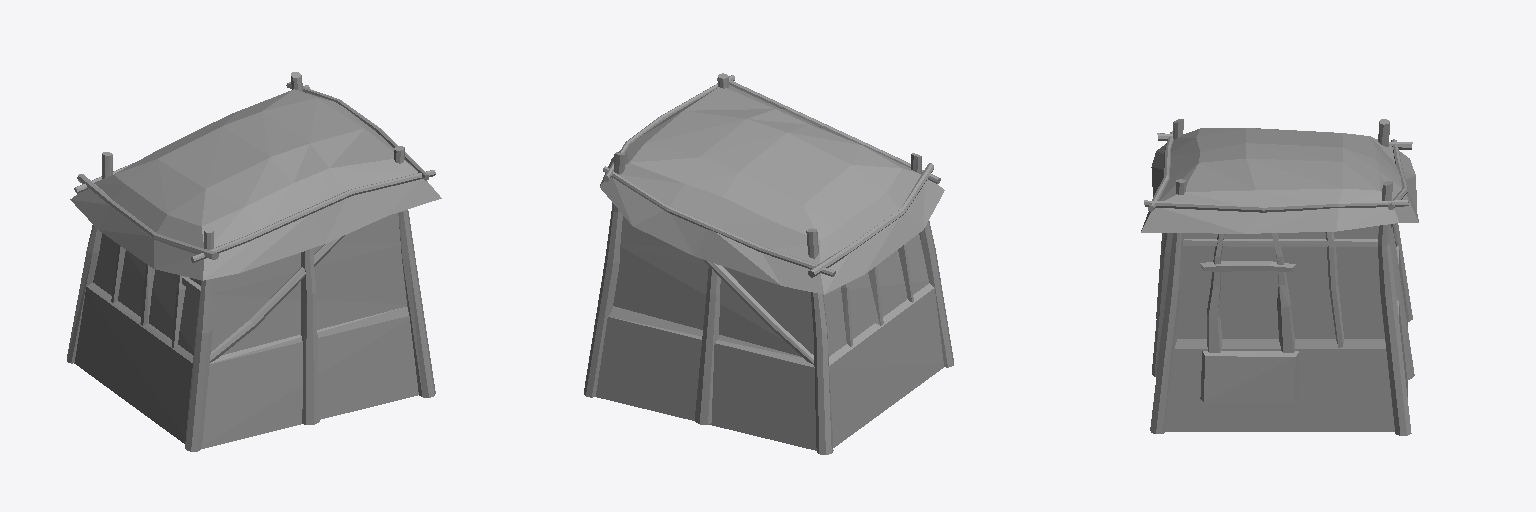
File: ex_de_shack_03.obj
3 views of the same model, side by side, from view 1: azimuth 30°, elevation 25°; view 2: azimuth 150°, elevation 25°; view 3: azimuth 270°, elevation 25° (orthographic).
Visible parts, largest first — view 1: nifid_111-matrix_Tri_Ex_De_Shack_03_5-lib, nifid_96-matrix_Tri_Ex_De_Shack_03_2-lib, nifid_91-matrix_Tri_Ex_De_Shack_03_1-lib, nifid_116-matrix_Tri_Ex_De_Shack_03_6-lib, nifid_86-matrix_Tri_Ex_De_Shack_03_0-lib, nifid_33-matrix_Tri_Object06_0-lib, nifid_27-matrix_Tri_Object05_0-lib, nifid_21-matrix_Tri_Object04_0-lib, nifid_51-matrix_Tri_Object09_0-lib, nifid_45-matrix_Tri_Object08_0-lib, nifid_39-matrix_Tri_Object07_0-lib, nifid_57-matrix_Tri_Object10_0-lib; view 2: nifid_96-matrix_Tri_Ex_De_Shack_03_2-lib, nifid_111-matrix_Tri_Ex_De_Shack_03_5-lib, nifid_91-matrix_Tri_Ex_De_Shack_03_1-lib, nifid_116-matrix_Tri_Ex_De_Shack_03_6-lib, nifid_69-matrix_Tri_Object12_0-lib, nifid_51-matrix_Tri_Object09_0-lib, nifid_75-matrix_Tri_Object13_0-lib, nifid_81-matrix_Tri_Object14_0-lib, nifid_86-matrix_Tri_Ex_De_Shack_03_0-lib, nifid_63-matrix_Tri_Object11_0-lib, nifid_45-matrix_Tri_Object08_0-lib, nifid_57-matrix_Tri_Object10_0-lib; view 3: nifid_91-matrix_Tri_Ex_De_Shack_03_1-lib, nifid_96-matrix_Tri_Ex_De_Shack_03_2-lib, nifid_111-matrix_Tri_Ex_De_Shack_03_5-lib, nifid_116-matrix_Tri_Ex_De_Shack_03_6-lib, nifid_15-matrix_Tri_Object03_0-lib, nifid_9-matrix_Tri_Object02_0-lib, nifid_106-matrix_Tri_Ex_De_Shack_03_4-lib, nifid_2-matrix_Tri_Object01_0-lib.
Boxes of the visible parts, <box> form: nifid_111-matrix_Tri_Ex_De_Shack_03_5-lib: <box>74,283,418,448</box>; nifid_96-matrix_Tri_Ex_De_Shack_03_2-lib: <box>94,89,417,247</box>; nifid_91-matrix_Tri_Ex_De_Shack_03_1-lib: <box>67,75,435,451</box>; nifid_116-matrix_Tri_Ex_De_Shack_03_6-lib: <box>93,233,406,355</box>; nifid_86-matrix_Tri_Ex_De_Shack_03_0-lib: <box>213,213,400,293</box>; nifid_33-matrix_Tri_Object06_0-lib: <box>239,213,323,272</box>; nifid_27-matrix_Tri_Object05_0-lib: <box>314,195,387,243</box>; nifid_21-matrix_Tri_Object04_0-lib: <box>356,179,441,215</box>; nifid_51-matrix_Tri_Object09_0-lib: <box>99,206,153,268</box>; nifid_45-matrix_Tri_Object08_0-lib: <box>154,240,203,280</box>; nifid_39-matrix_Tri_Object07_0-lib: <box>203,238,257,280</box>; nifid_57-matrix_Tri_Object10_0-lib: <box>70,189,108,229</box>; nifid_96-matrix_Tri_Ex_De_Shack_03_2-lib: <box>620,85,920,264</box>; nifid_111-matrix_Tri_Ex_De_Shack_03_5-lib: <box>596,283,943,450</box>; nifid_91-matrix_Tri_Ex_De_Shack_03_1-lib: <box>584,75,953,454</box>; nifid_116-matrix_Tri_Ex_De_Shack_03_6-lib: <box>613,234,928,356</box>; nifid_69-matrix_Tri_Object12_0-lib: <box>695,229,780,285</box>; nifid_51-matrix_Tri_Object09_0-lib: <box>852,214,922,273</box>; nifid_75-matrix_Tri_Object13_0-lib: <box>633,211,706,255</box>; nifid_81-matrix_Tri_Object14_0-lib: <box>600,177,663,225</box>; nifid_86-matrix_Tri_Ex_De_Shack_03_0-lib: <box>620,216,761,279</box>; nifid_63-matrix_Tri_Object11_0-lib: <box>763,253,823,294</box>; nifid_45-matrix_Tri_Object08_0-lib: <box>905,179,944,229</box>; nifid_57-matrix_Tri_Object10_0-lib: <box>821,252,864,294</box>; nifid_91-matrix_Tri_Ex_De_Shack_03_1-lib: <box>1144,119,1414,435</box>; nifid_96-matrix_Tri_Ex_De_Shack_03_2-lib: <box>1158,128,1401,205</box>; nifid_111-matrix_Tri_Ex_De_Shack_03_5-lib: <box>1166,246,1407,431</box>; nifid_116-matrix_Tri_Ex_De_Shack_03_6-lib: <box>1177,246,1384,338</box>; nifid_15-matrix_Tri_Object03_0-lib: <box>1141,208,1259,233</box>; nifid_9-matrix_Tri_Object02_0-lib: <box>1245,208,1337,233</box>; nifid_106-matrix_Tri_Ex_De_Shack_03_4-lib: <box>1184,226,1378,238</box>; nifid_2-matrix_Tri_Object01_0-lib: <box>1337,207,1398,230</box>.
Bounding box in the file's own units: 11.77 × 10.58 × 11.